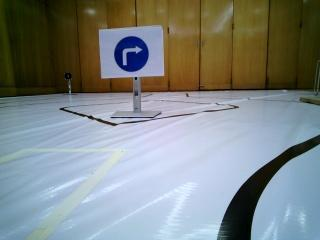right: (102, 36, 162, 77)
